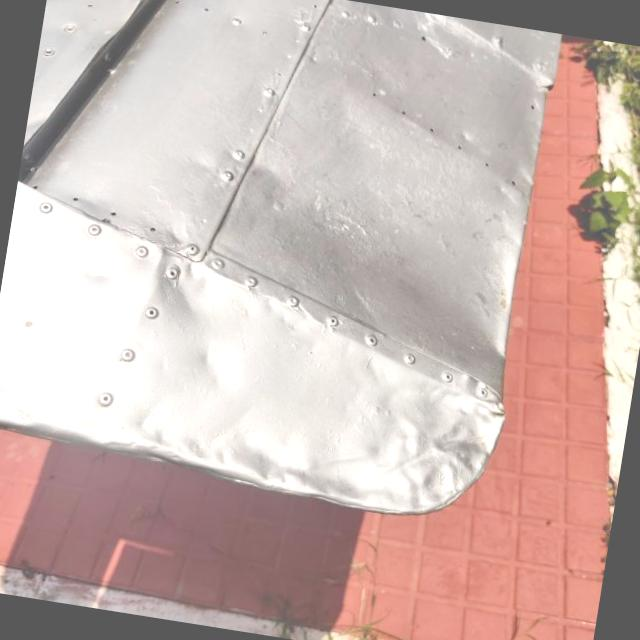Missing Fastener: (63, 188, 92, 215), (472, 156, 503, 178), (143, 218, 167, 242), (446, 140, 476, 158), (514, 96, 542, 115), (27, 176, 52, 197), (418, 122, 444, 142), (501, 176, 528, 194), (358, 86, 384, 104), (414, 30, 438, 48), (95, 204, 124, 218), (391, 105, 411, 124), (301, 0, 324, 16), (270, 64, 288, 82), (256, 27, 278, 41), (81, 0, 102, 14), (166, 0, 189, 10), (200, 4, 212, 18)
dent: (131, 242, 234, 346), (64, 223, 158, 322), (182, 332, 255, 408)
